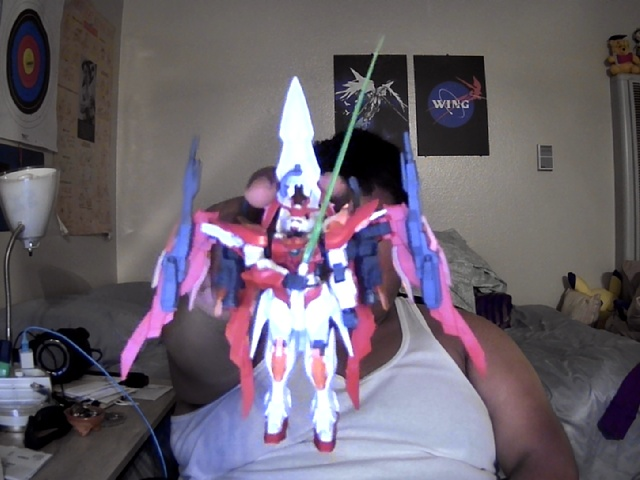Honoo: (118, 76, 488, 453)
